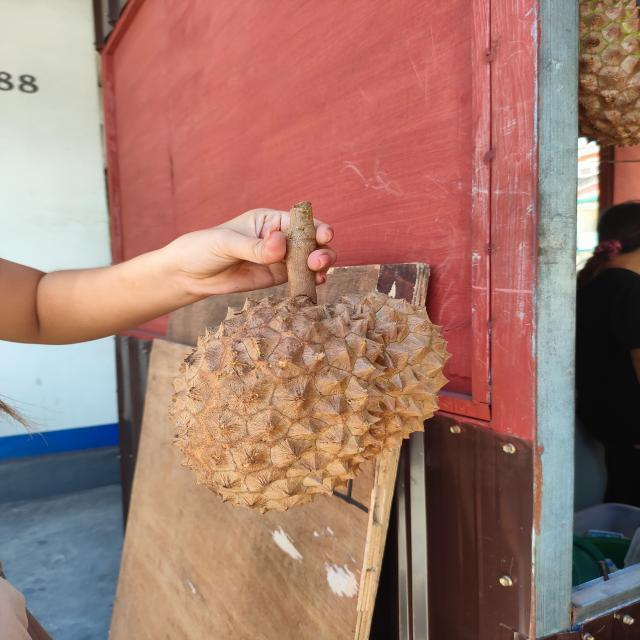mature: (166, 292, 452, 517)
